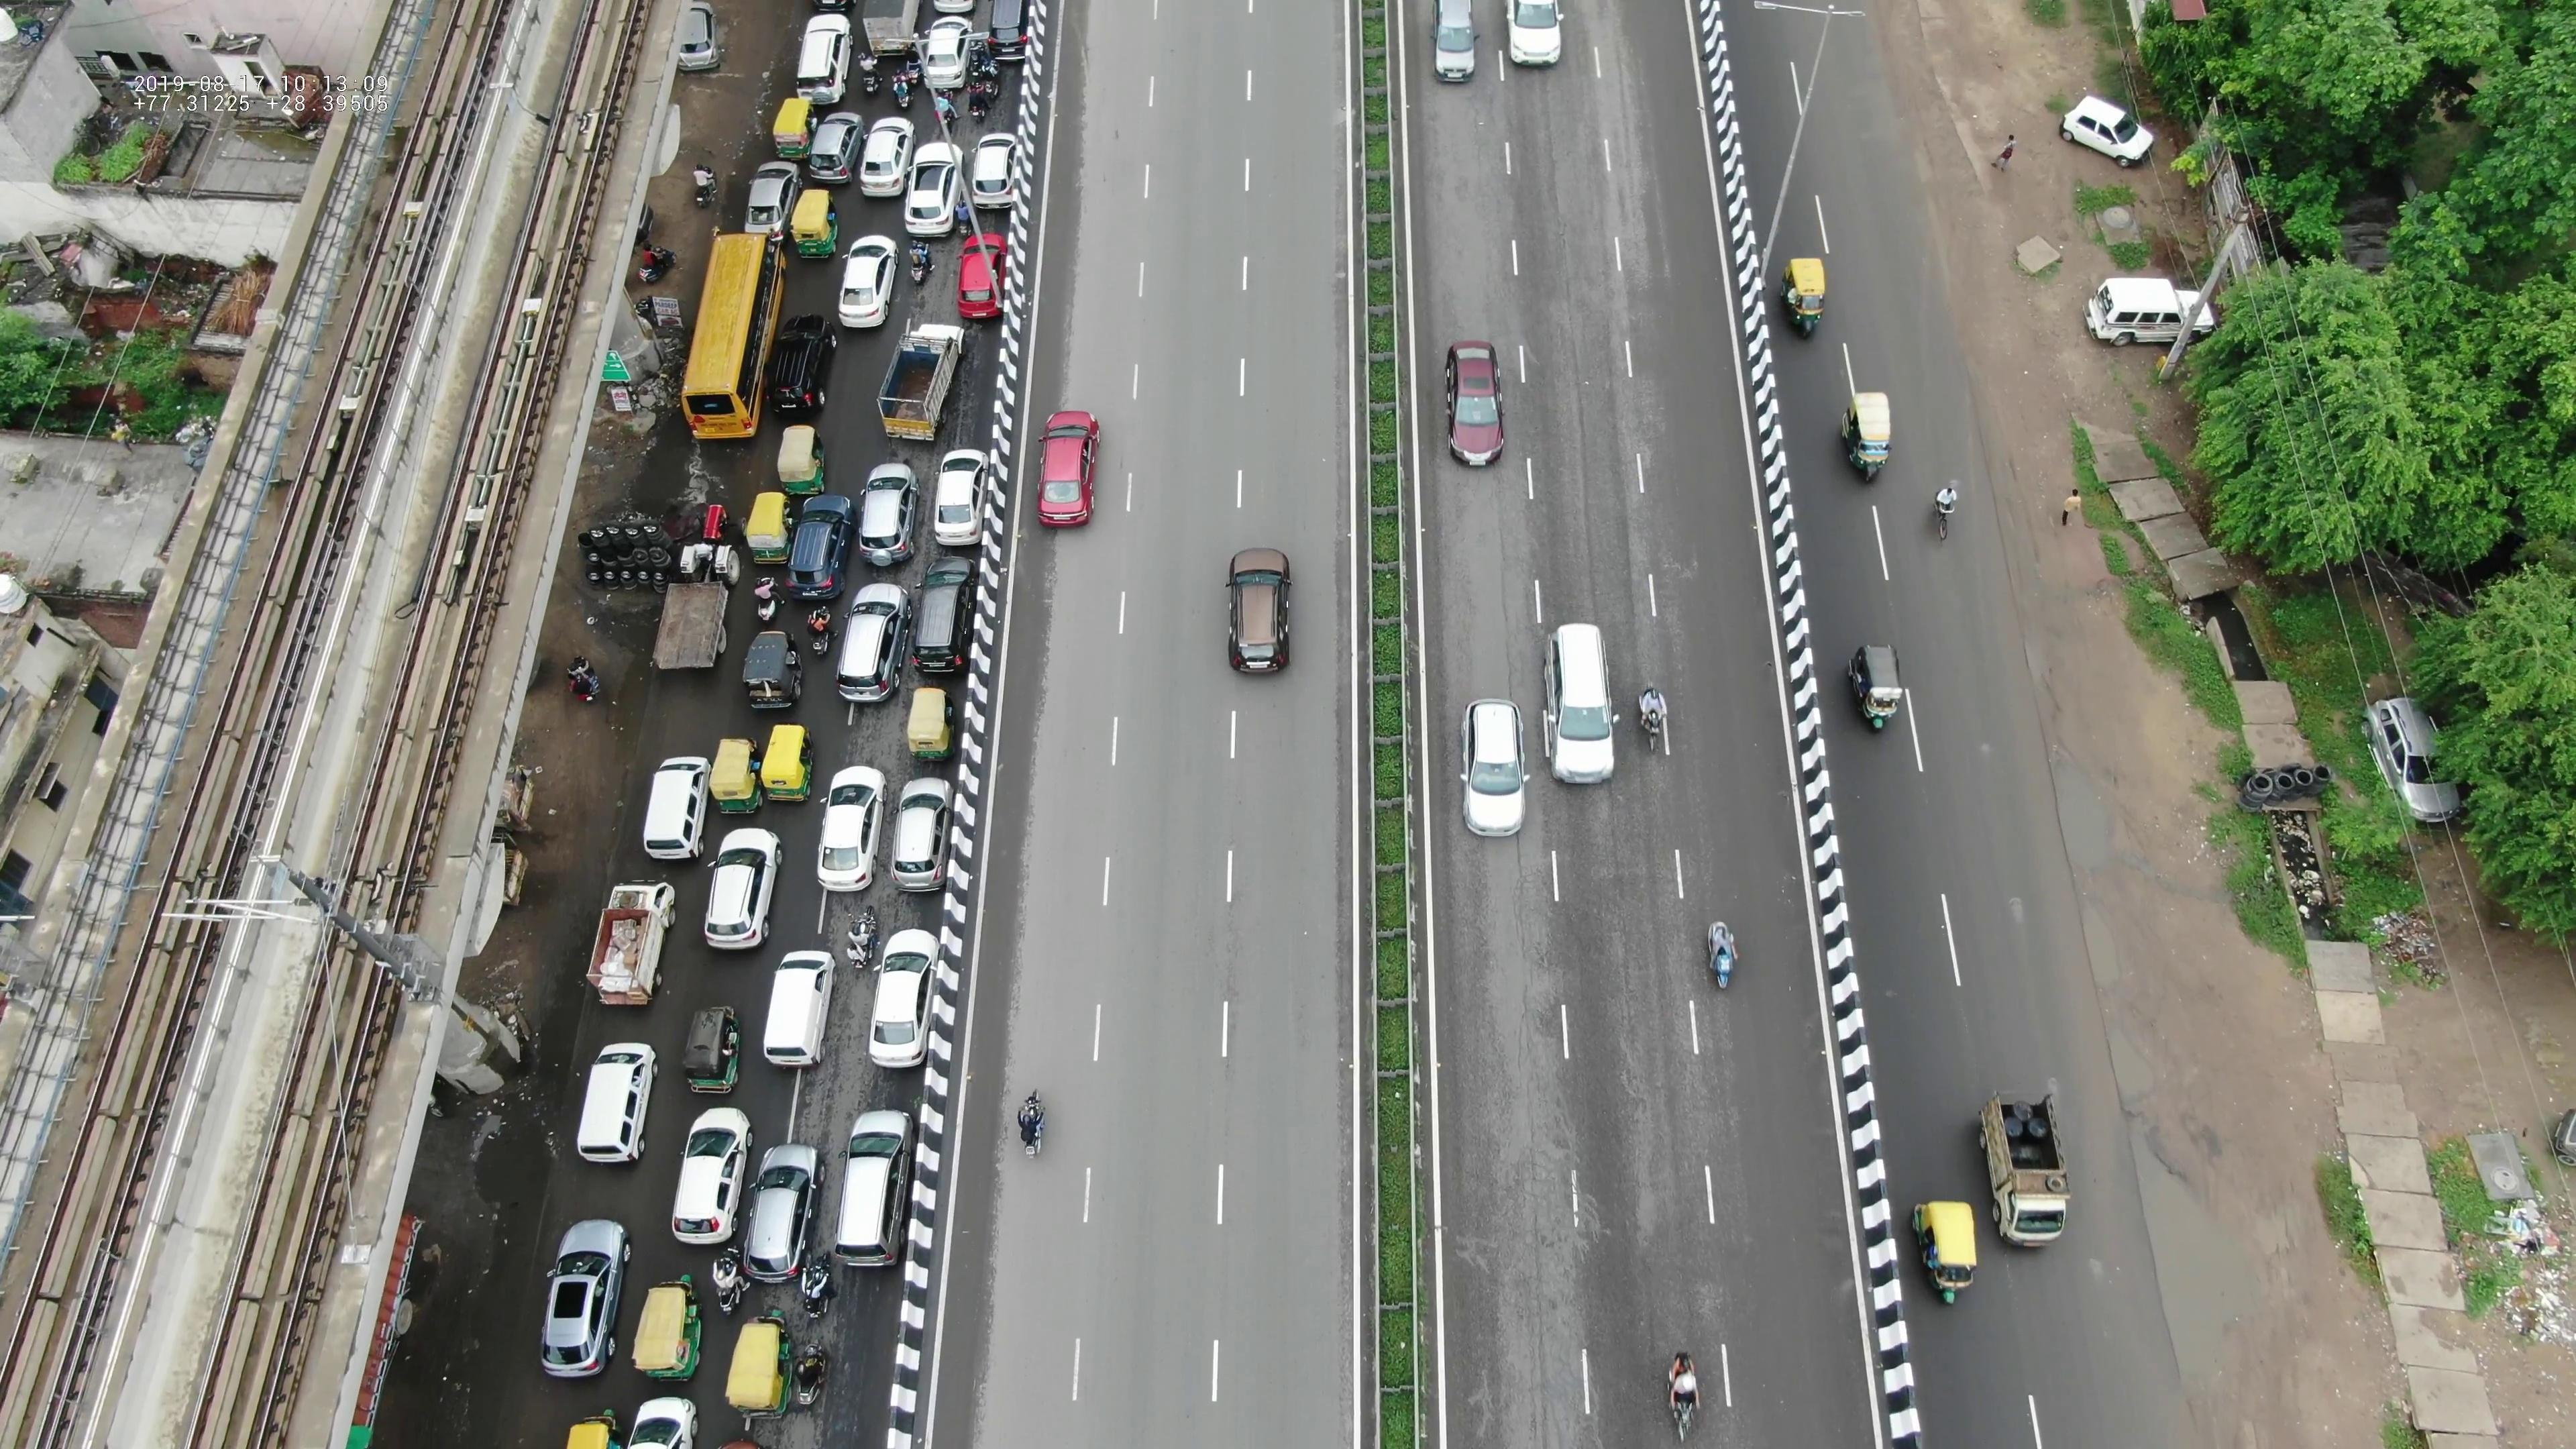Alligator_cracks: (1449, 860, 1654, 1143), (1461, 1146, 1619, 1431), (1458, 97, 1606, 322)
